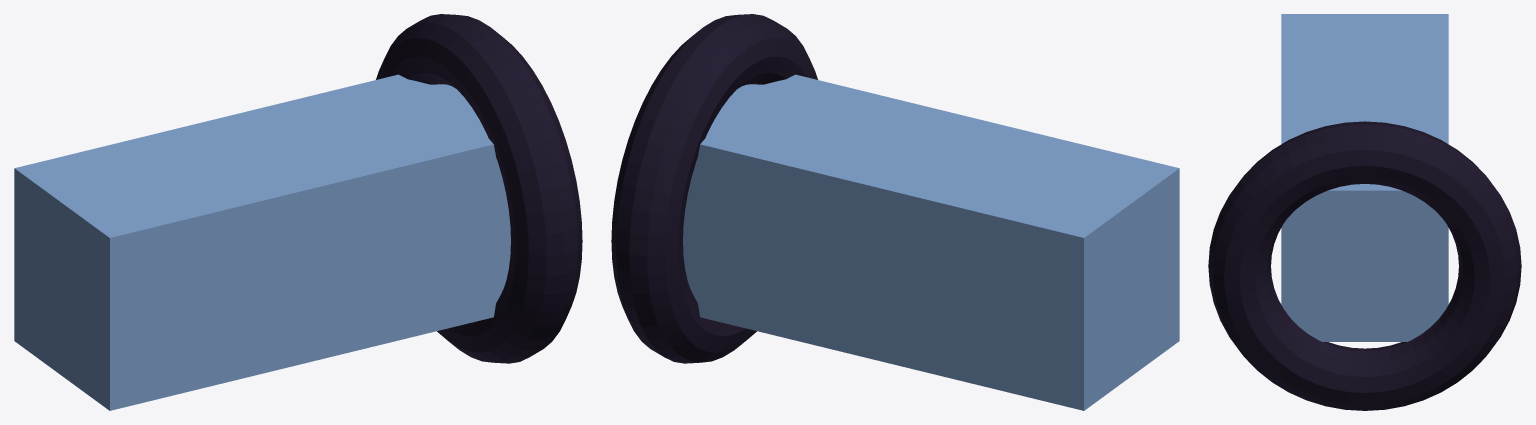
File: foamdart.dae
3 views of the same model, side by side, from view 1: azimuth 30°, elevation 25°; view 2: azimuth 150°, elevation 25°; view 3: azimuth 270°, elevation 25° (orthographic). The views are drawn at different scales.
Parts seen in each view (by area): view 1: Torus; view 2: Torus; view 3: Torus.
Boxes of the visible parts, left/top/right/bottom form: Torus: left=14, top=14, right=582, bottom=410; Torus: left=611, top=14, right=1179, bottom=410; Torus: left=1208, top=14, right=1521, bottom=410.
Size of the model in its own units: 2.15 by 1.5 by 1.5.
